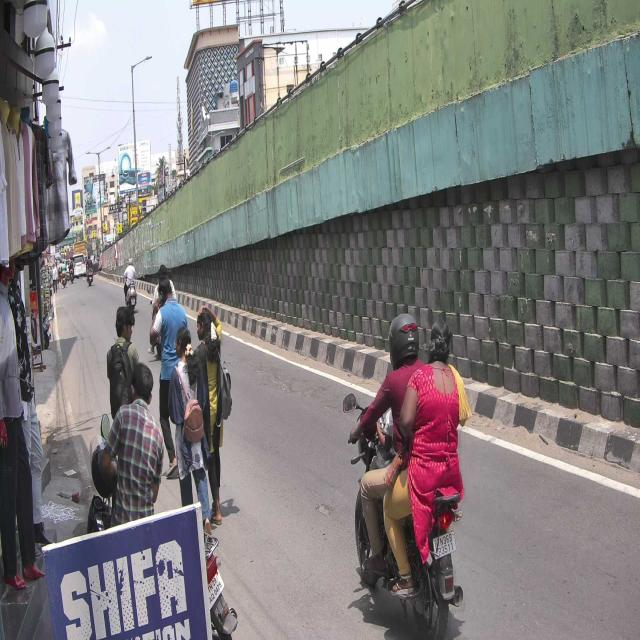double_rider: (341, 308, 468, 640)
